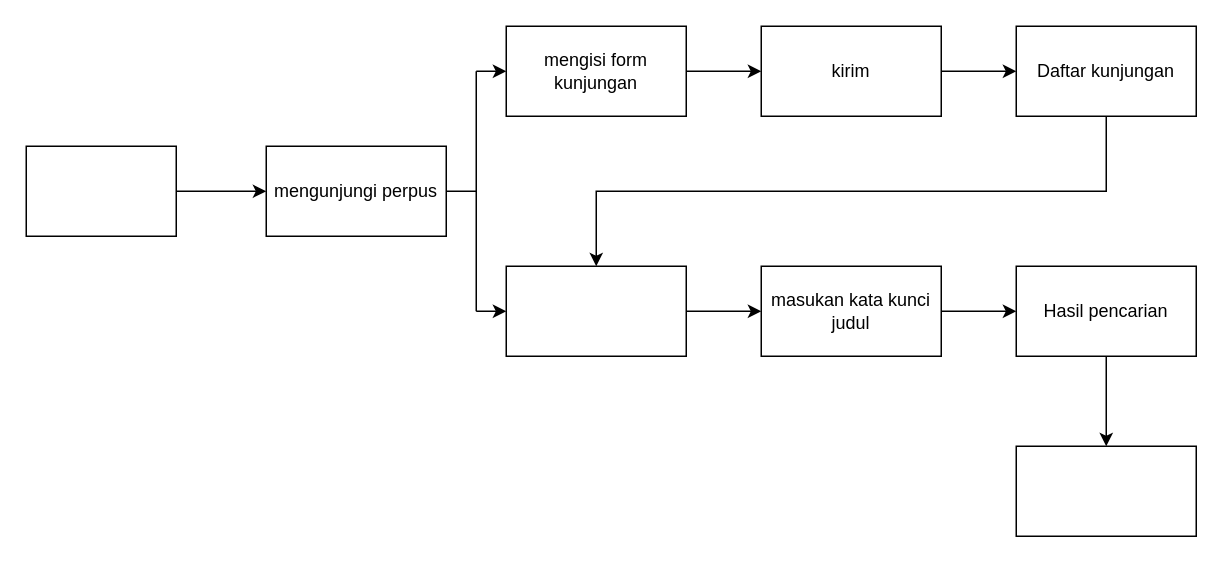
Some shapes in this 1223 by 563 pixel diagram are drawn without their labels. Here are the shapes that lost their labels. From the top down, the centre of each, then its label:
At [100,190]: "User".
At [595,310]: "Pencarian Buku".
At [1105,490]: "Selesai".
